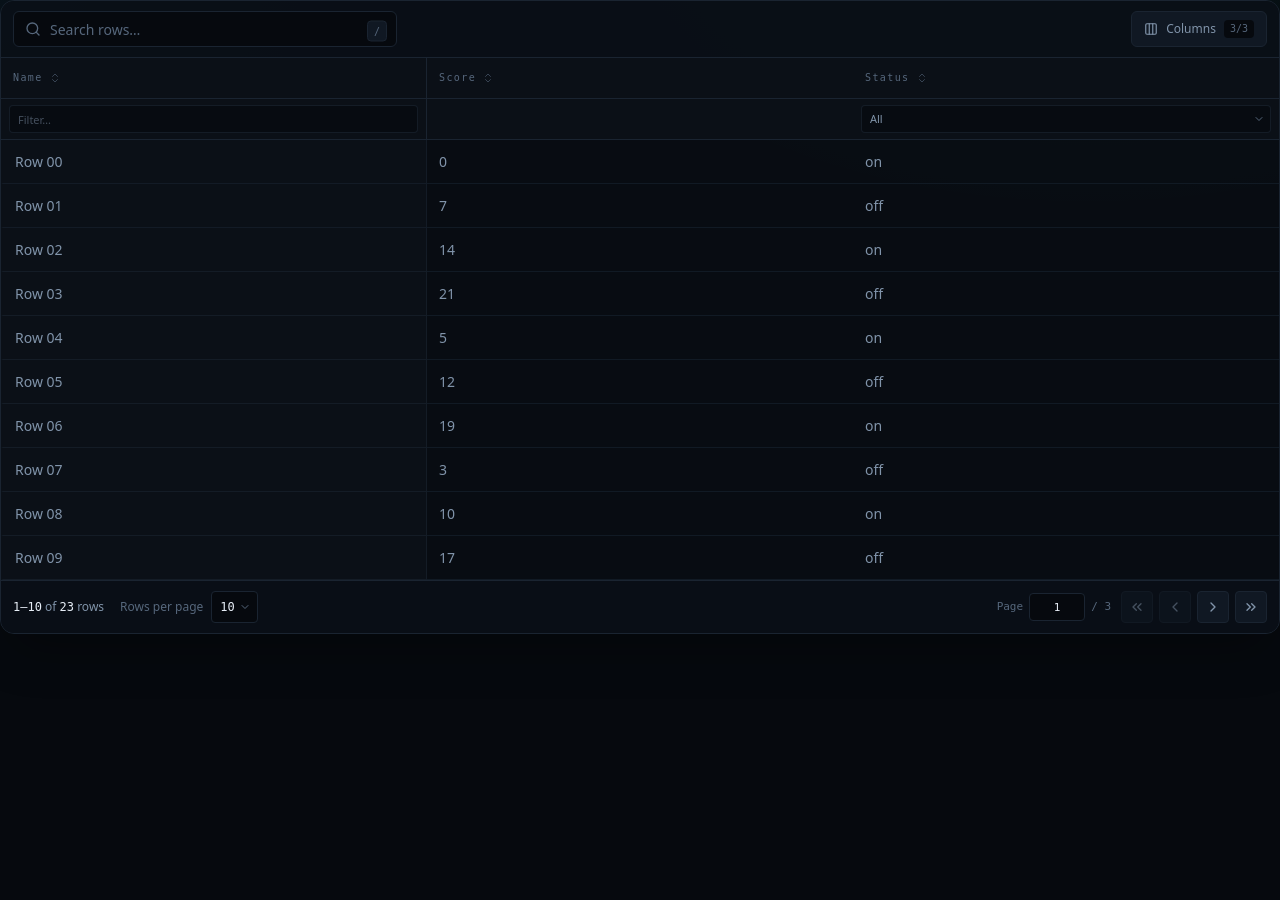
Test: DataGrid › changes the page size from an in-app menu
expect the text "Row 22" is not shown: met
Click the button named "Rows per page, currently 10". click: (235, 607)
box: [211,591,258,623]
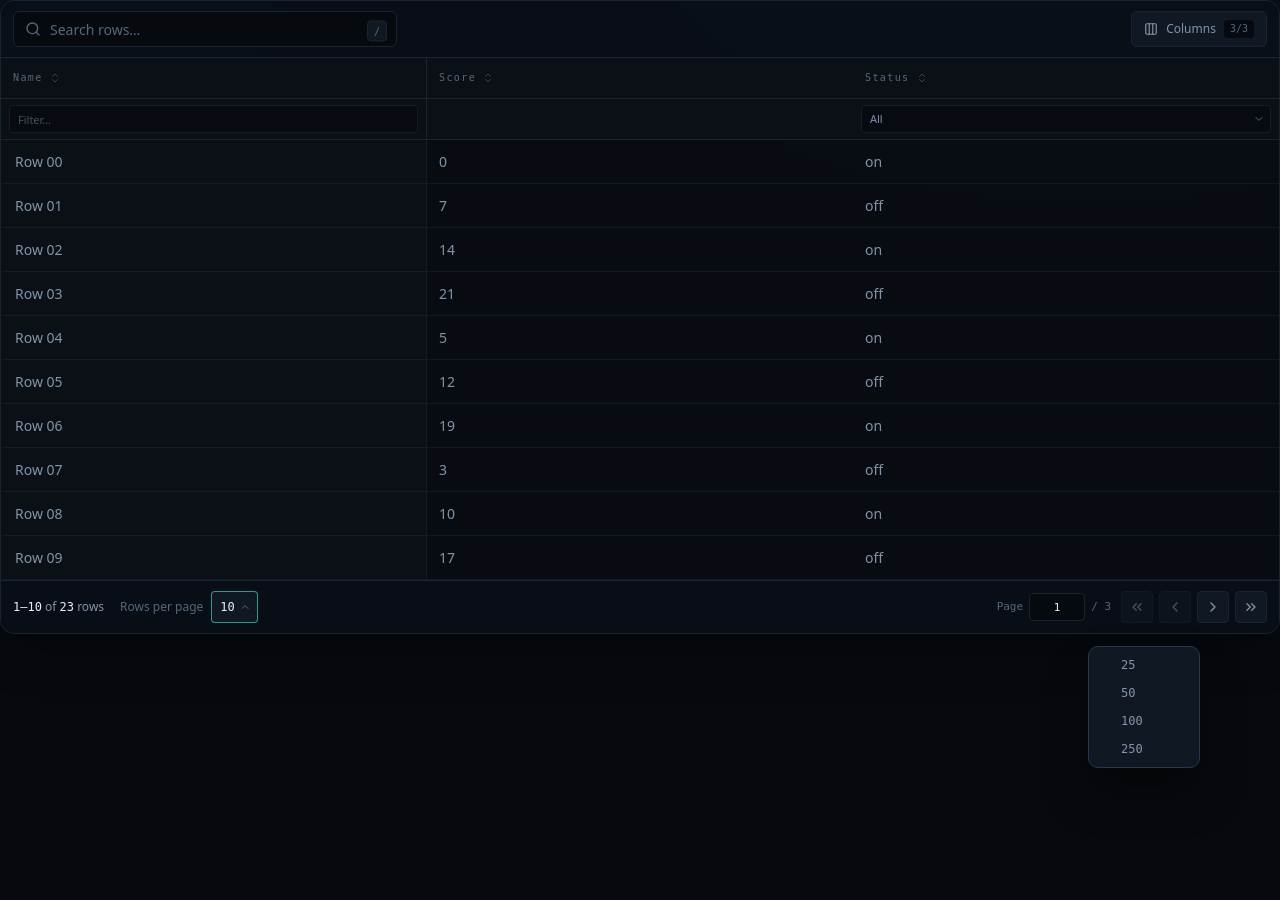
Click the menu item "25". click: (1128, 665)
box: [1121,658,1136,672]
(page scrolled)
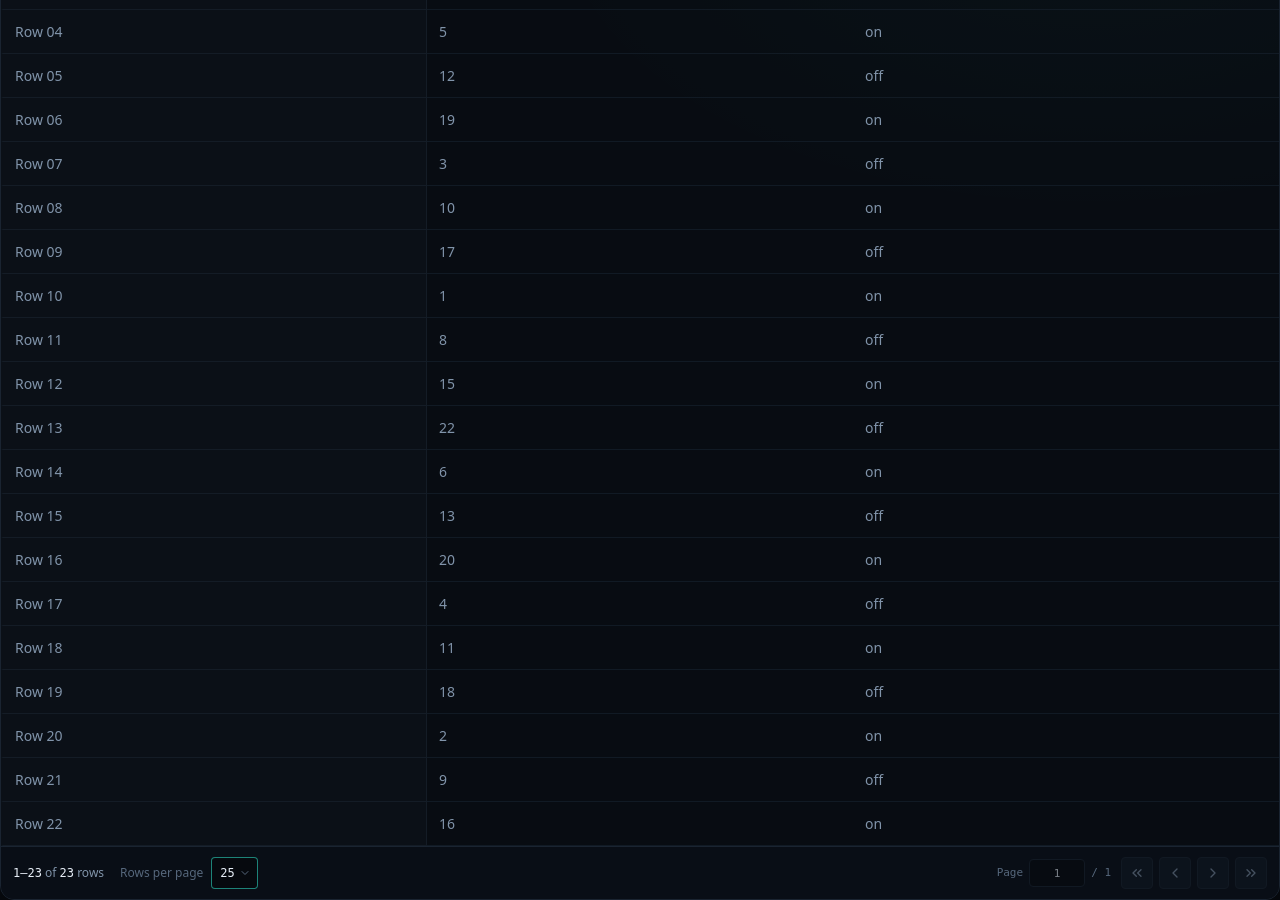
expect the button named "Rows per page, currently 25" is shown: met, box [211,857,258,889]
expect the text "Row 22" is shown: met, box [1,802,427,846]
